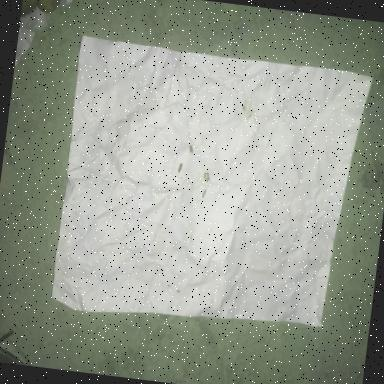pbw: (176, 162, 183, 176), (188, 145, 194, 154), (201, 190, 206, 198)
